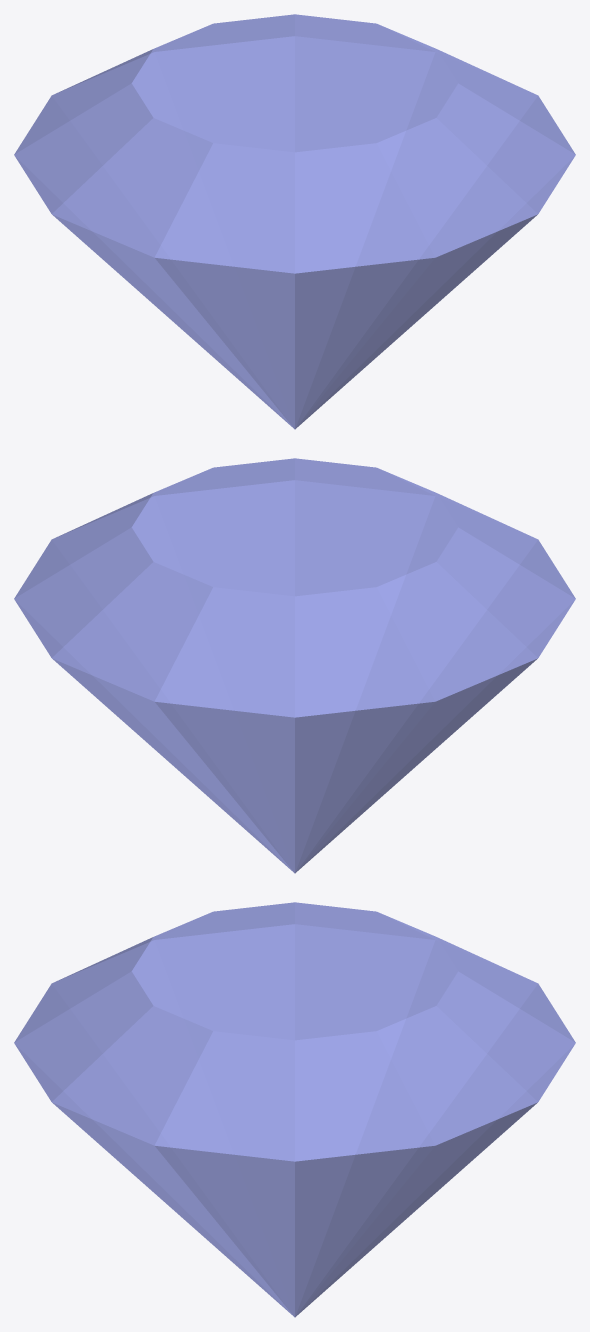
The model's file is diamond.fbx.
3 renders of one model, top to bottom at view 1: azimuth 30°, elevation 25°; view 2: azimuth 150°, elevation 25°; view 3: azimuth 270°, elevation 25°, orthographic.
Parts seen in each view (by area): view 1: Sphere; view 2: Sphere; view 3: Sphere.
Part boxes in pixels (x1,y1,x2,y2): Sphere: (14,14,575,429); Sphere: (14,458,575,873); Sphere: (14,902,575,1317).
Size of the model in its own units: 173 by 118 by 173.
